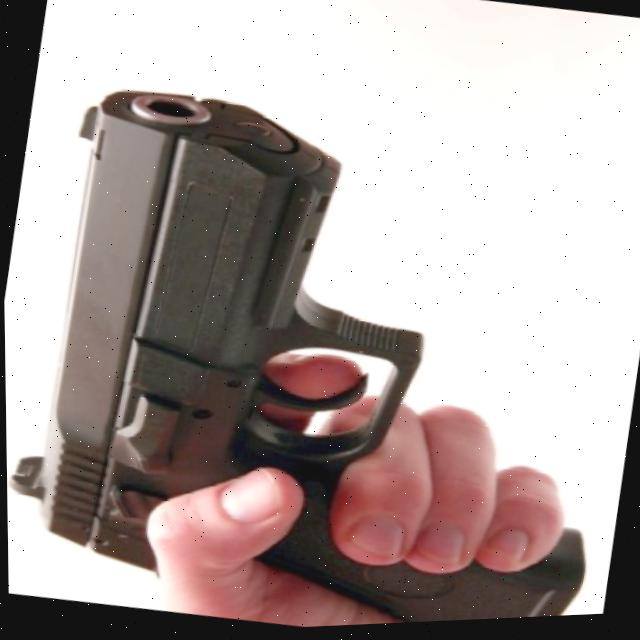pistol: (1, 65, 462, 618)
